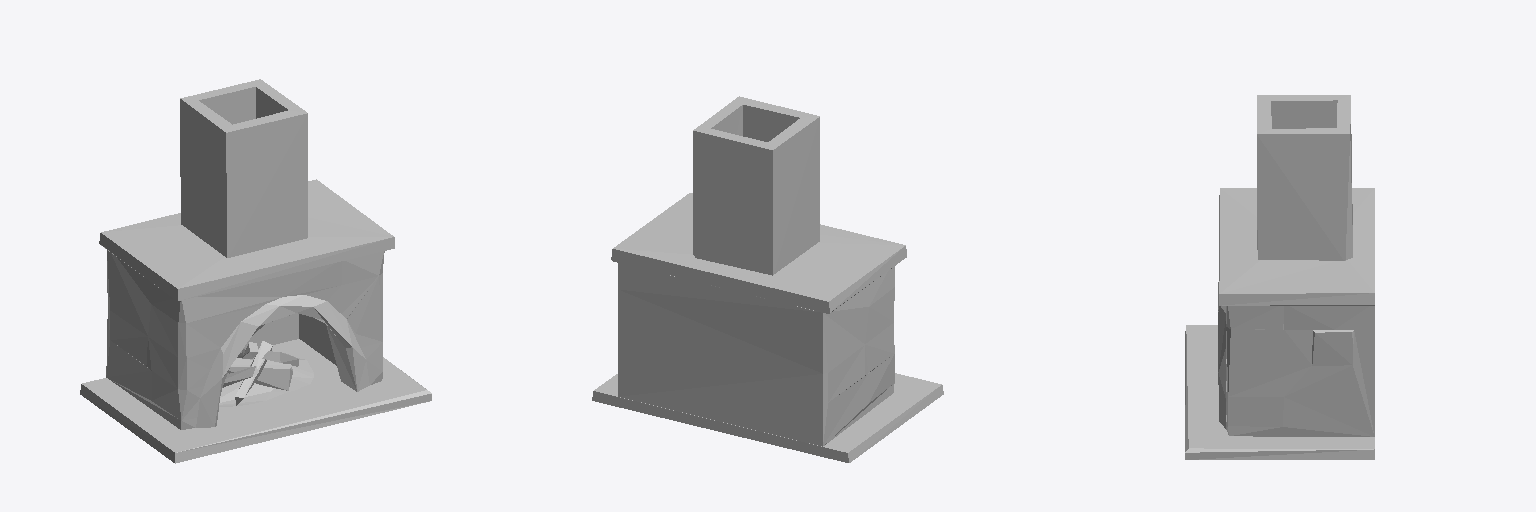
File: fireplace_quarter.obj
3 views of the same model, side by side, from view 1: azimuth 30°, elevation 25°; view 2: azimuth 150°, elevation 25°; view 3: azimuth 270°, elevation 25° (orthographic).
Parts seen in each view (by area): view 1: fireplace_noFireWood, firewood_separate; view 2: fireplace_noFireWood; view 3: fireplace_noFireWood.
Boxes of the visible parts, x1,y1,x2,y2 form: fireplace_noFireWood: [80, 79, 431, 463]; firewood_separate: [223, 341, 298, 405]; fireplace_noFireWood: [592, 96, 943, 462]; fireplace_noFireWood: [1185, 95, 1374, 459].
Size of the model in its own units: 1.91 by 2.01 by 1.22.